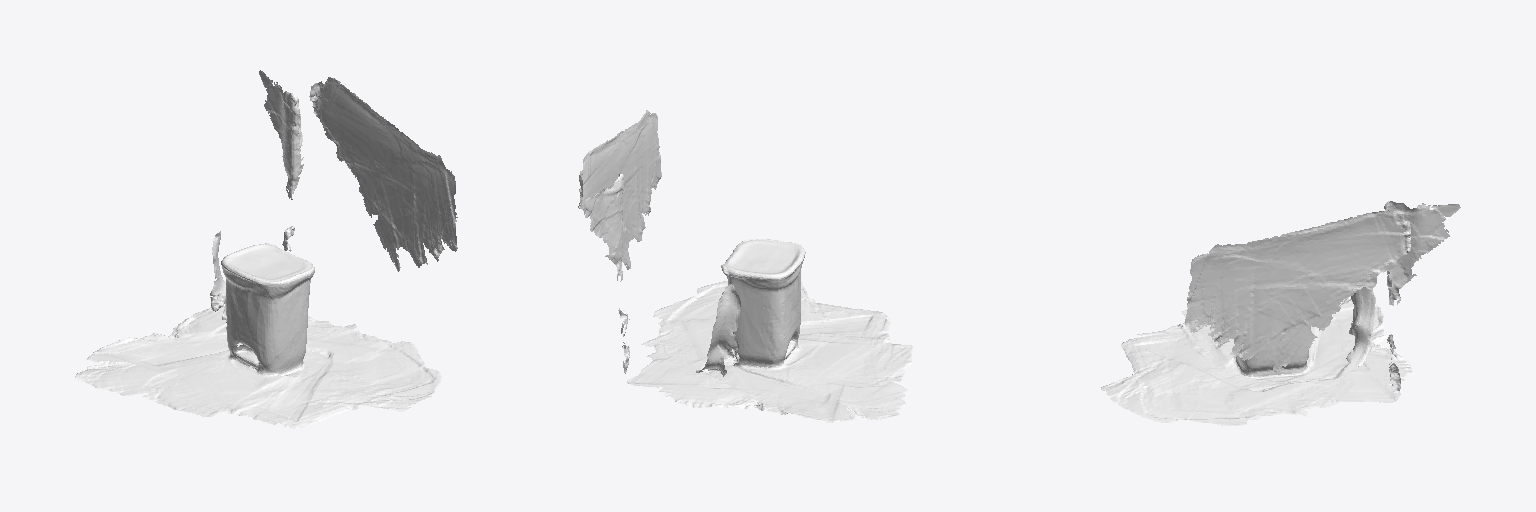
The model's file is Scaniverse_2025_05_15_100415.obj.
3 views of the same model, side by side, from view 1: azimuth 30°, elevation 25°; view 2: azimuth 150°, elevation 25°; view 3: azimuth 270°, elevation 25° (orthographic).
Visible parts, largest first — view 1: mesh; view 2: mesh; view 3: mesh.
Part boxes in pixels (left/top/right/bottom): mesh: left=75, top=70, right=457, bottom=428; mesh: left=578, top=110, right=913, bottom=423; mesh: left=1101, top=201, right=1460, bottom=425.
Size of the model in its own units: 1.31 by 0.8754 by 1.32.